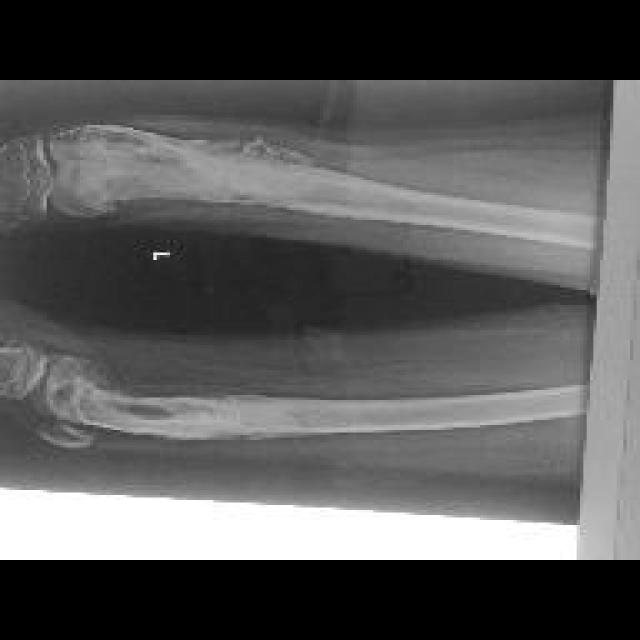bone-cancer: (87, 137, 318, 212), (64, 375, 269, 438)
